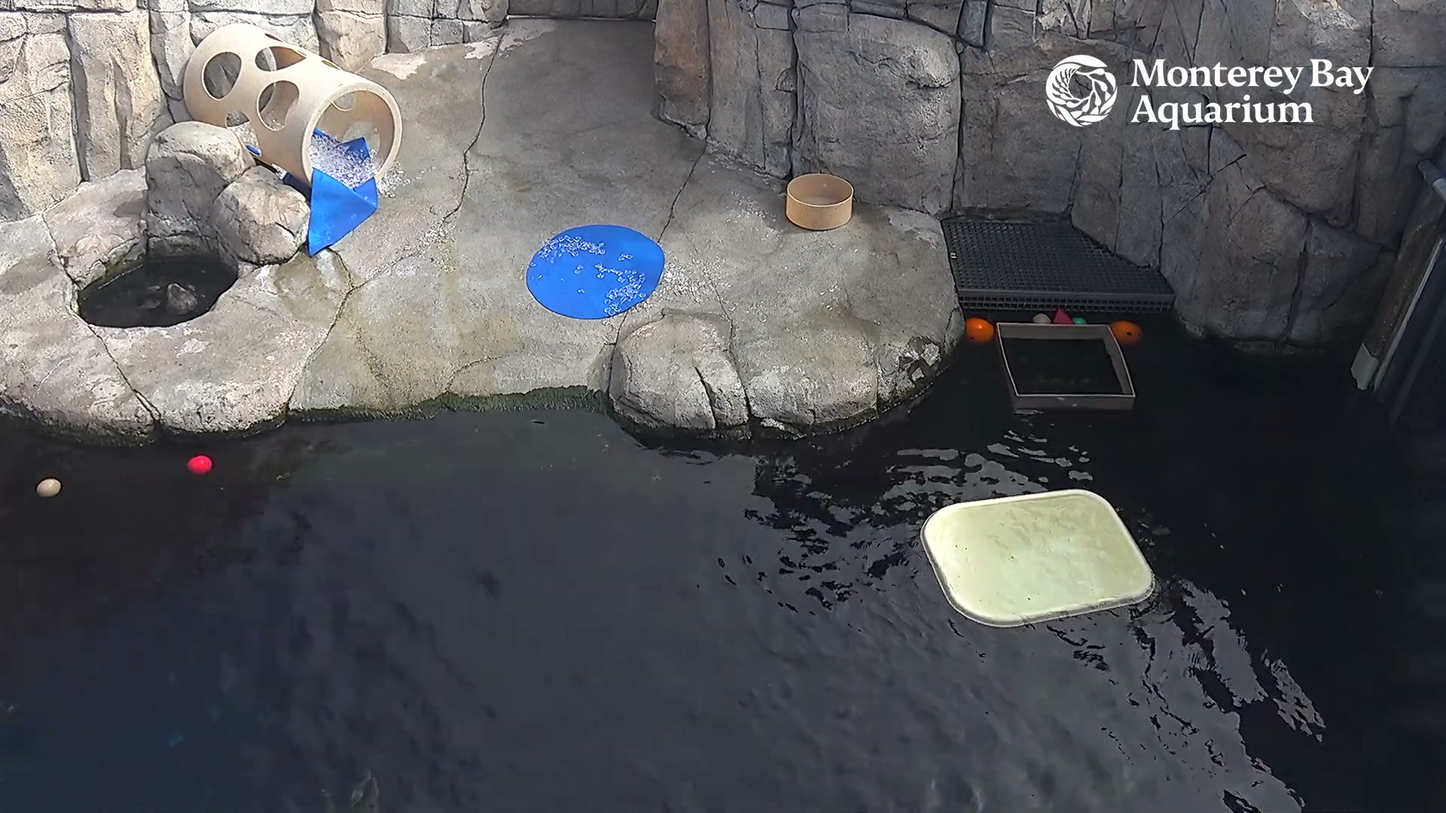Southern Sea Otter: (157, 266, 209, 322)
